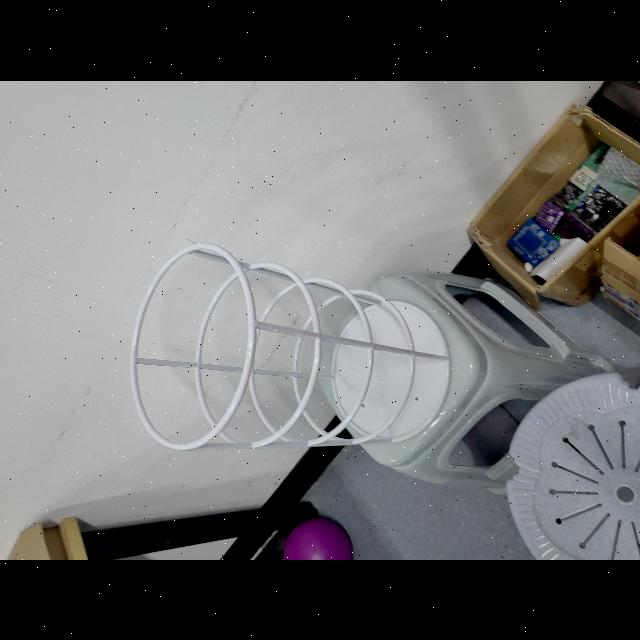S: (124, 242, 453, 456)
